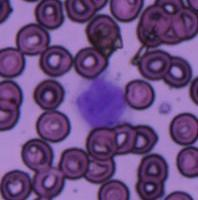M: (76, 74, 128, 127)
